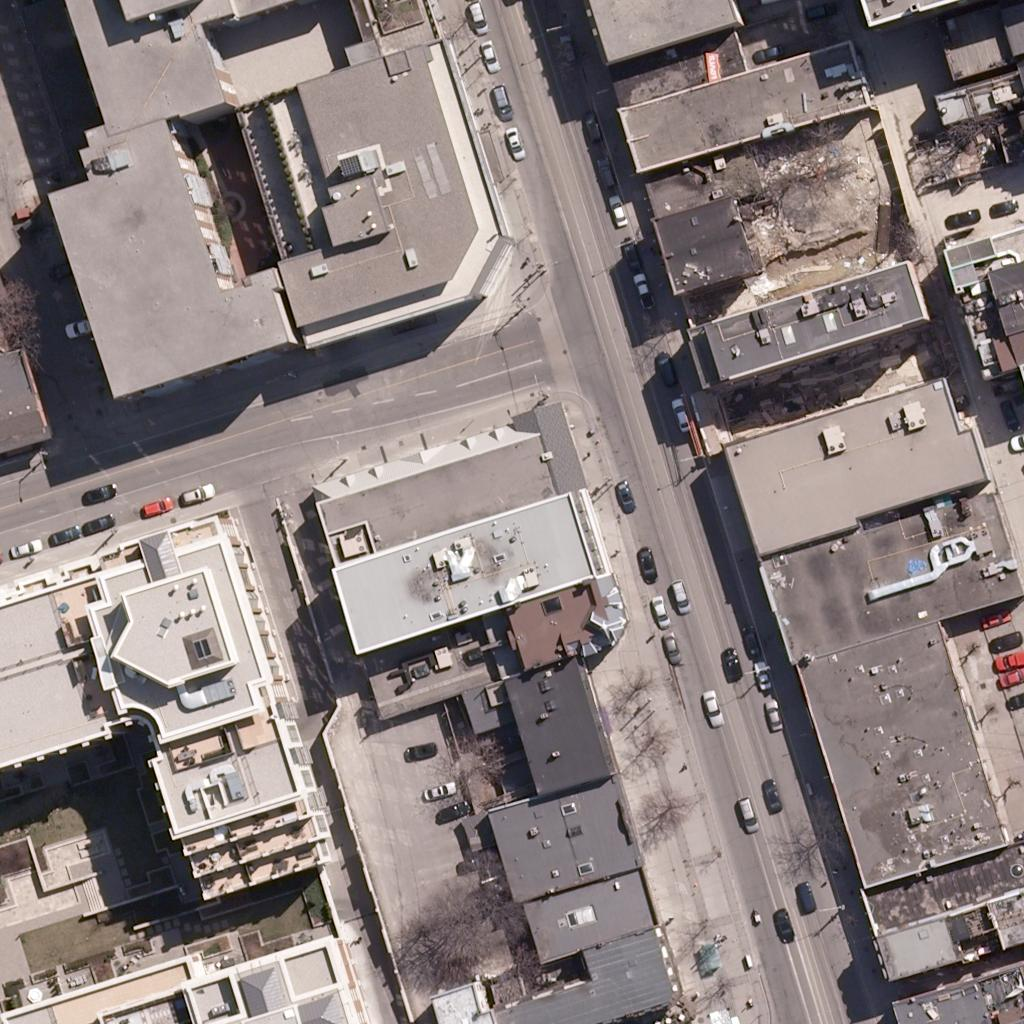car: (460, 0, 494, 34), (548, 30, 582, 64), (751, 34, 785, 68), (471, 38, 505, 72), (484, 86, 518, 120), (575, 110, 609, 144), (496, 124, 530, 158), (495, 125, 529, 159), (587, 159, 621, 193), (598, 190, 632, 224), (986, 190, 1020, 224), (943, 200, 977, 234), (613, 238, 647, 272), (47, 251, 81, 285), (623, 268, 657, 302), (63, 309, 97, 343), (647, 347, 681, 381), (662, 394, 696, 428), (990, 398, 1024, 432), (81, 474, 115, 508), (177, 476, 211, 510), (608, 479, 642, 513), (139, 488, 173, 522), (81, 505, 115, 539), (46, 517, 80, 551), (5, 532, 39, 566), (628, 542, 662, 576), (662, 580, 696, 614), (641, 593, 675, 627), (976, 601, 1010, 635), (733, 624, 767, 658), (986, 624, 1020, 658), (652, 630, 686, 664), (714, 645, 748, 679), (746, 658, 780, 692), (694, 689, 728, 723), (754, 698, 788, 732), (404, 733, 438, 767), (421, 773, 455, 807), (754, 776, 788, 810), (435, 791, 469, 825), (730, 796, 764, 830), (455, 845, 489, 879), (786, 878, 820, 912), (765, 911, 799, 945), (991, 642, 1024, 676), (992, 660, 1024, 694), (993, 369, 1024, 403), (806, 0, 840, 27)
